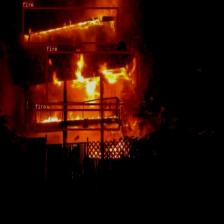fire: (46, 52, 138, 104), (22, 7, 118, 43), (34, 109, 119, 130)
